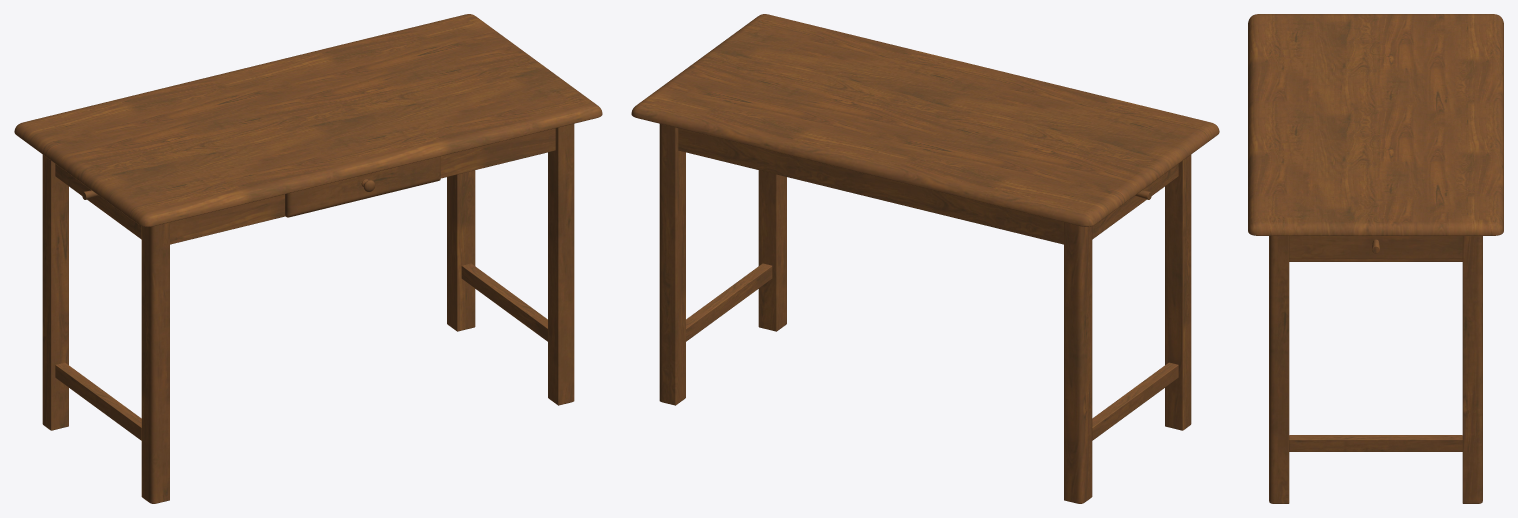
The model's file is desk54617.glb.
3 renders of one model, left to right at view 1: azimuth 30°, elevation 25°; view 2: azimuth 150°, elevation 25°; view 3: azimuth 270°, elevation 25°, orthographic. The views are drawn at different scales.
Parts seen in each view (by area): view 1: desk54617; view 2: desk54617; view 3: desk54617.
Part boxes in pixels (x1,y1,x2,y2): desk54617: [14, 14, 602, 503]; desk54617: [631, 14, 1219, 503]; desk54617: [1248, 14, 1503, 503].
Bounding box in the file's own units: 1.2 × 0.74 × 0.6.
Materials: 2 (1 with a texture image).
